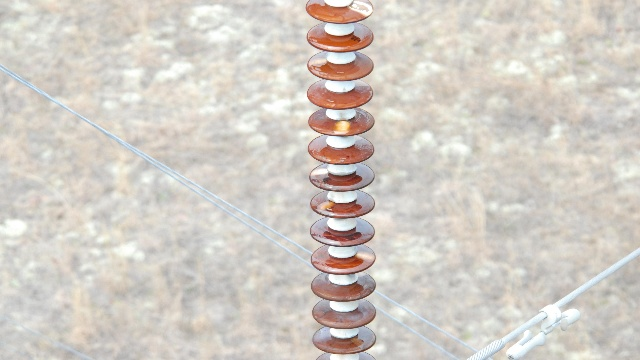insulator_unspecified: (304, 1, 378, 359)
pollution_flashover_local: (349, 0, 376, 18), (333, 119, 351, 135), (354, 250, 376, 263), (307, 57, 328, 68), (317, 200, 335, 212), (309, 167, 330, 177)
